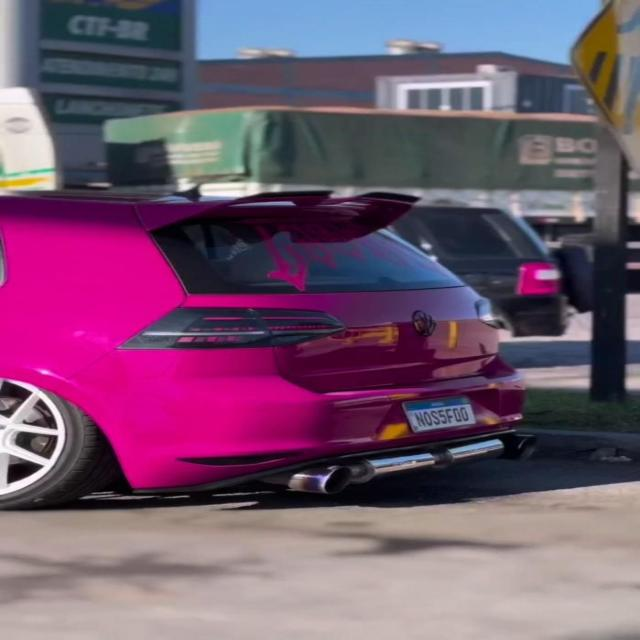Placas: (399, 393, 478, 434)
